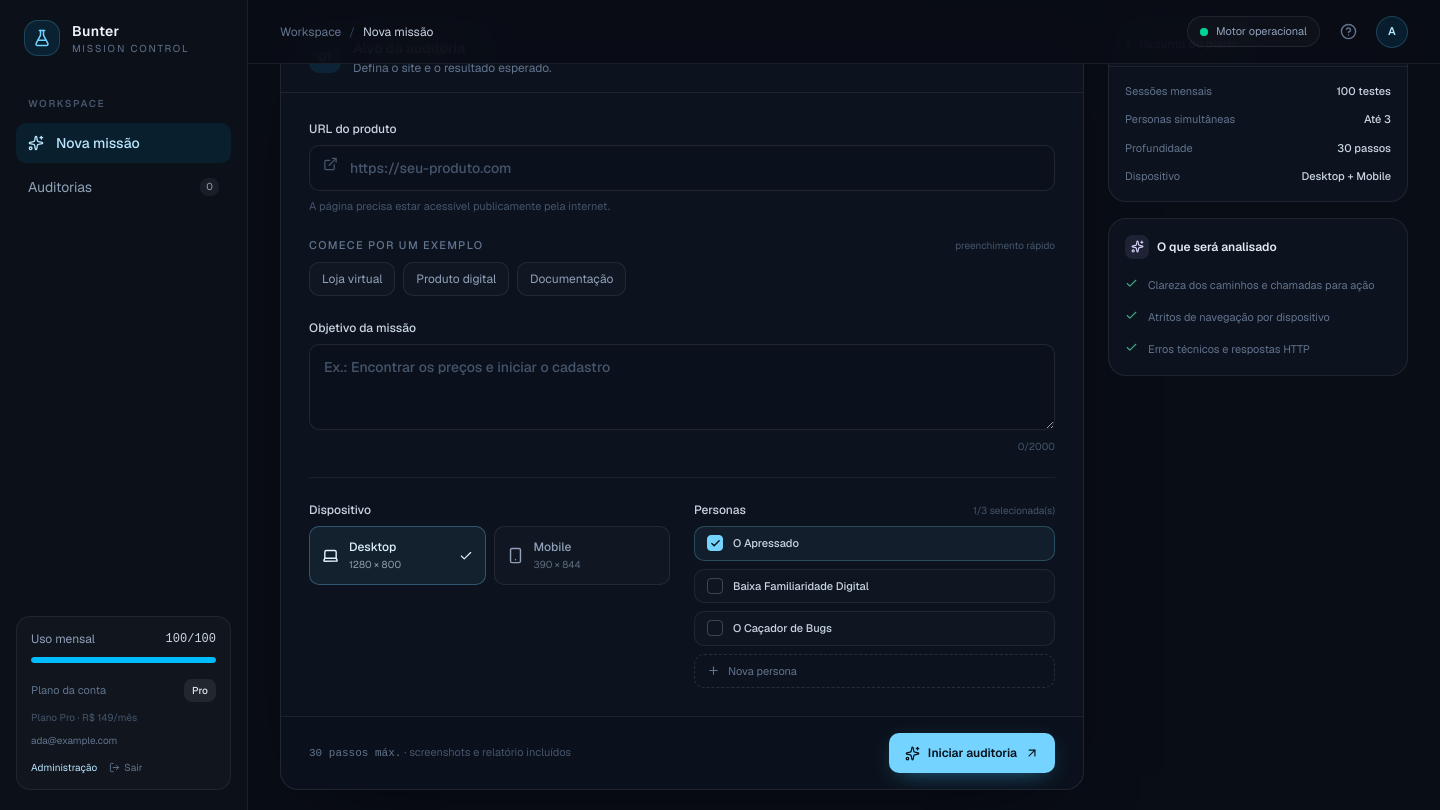
MissionControl › explains monthly quota exhaustion and can dismiss its dialog by overlay
This screenshot has width=1440, height=810.
(page scrolled)
expect the link to "/admin" reads "Administração": met, box [31,760,97,775]
Step 1. Submit the form, box [280,21,1084,790]
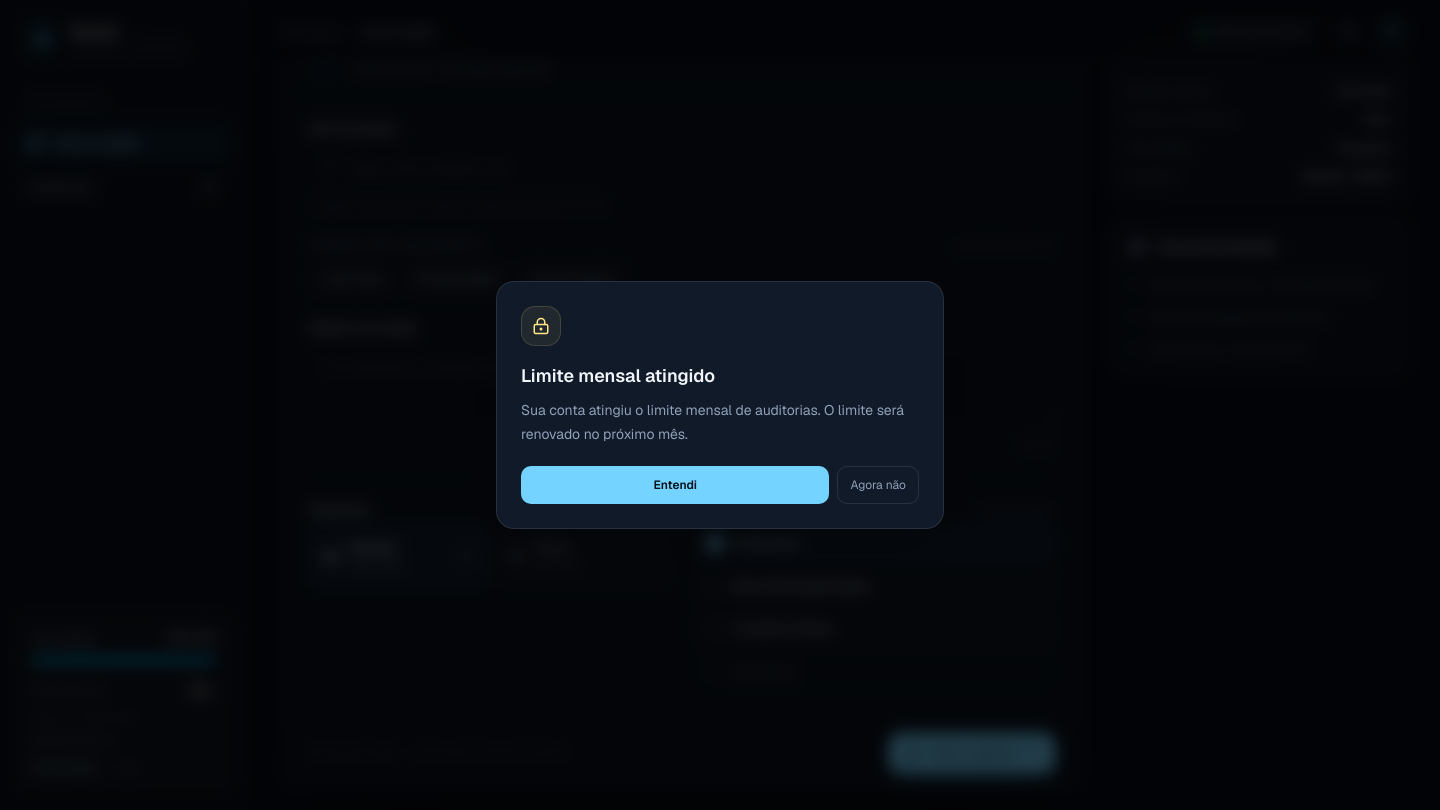
expect the dialog shows "Limite mensal atingido": met, box [521,364,715,387]
expect the dialog shows "O limite será renovado no próximo mês.": met, box [521,401,904,443]
Step 2. Press the mouse on the element that starts with "Limite mensal atingido" → (720, 405), box [0,0,1439,809]
(page scrolled)
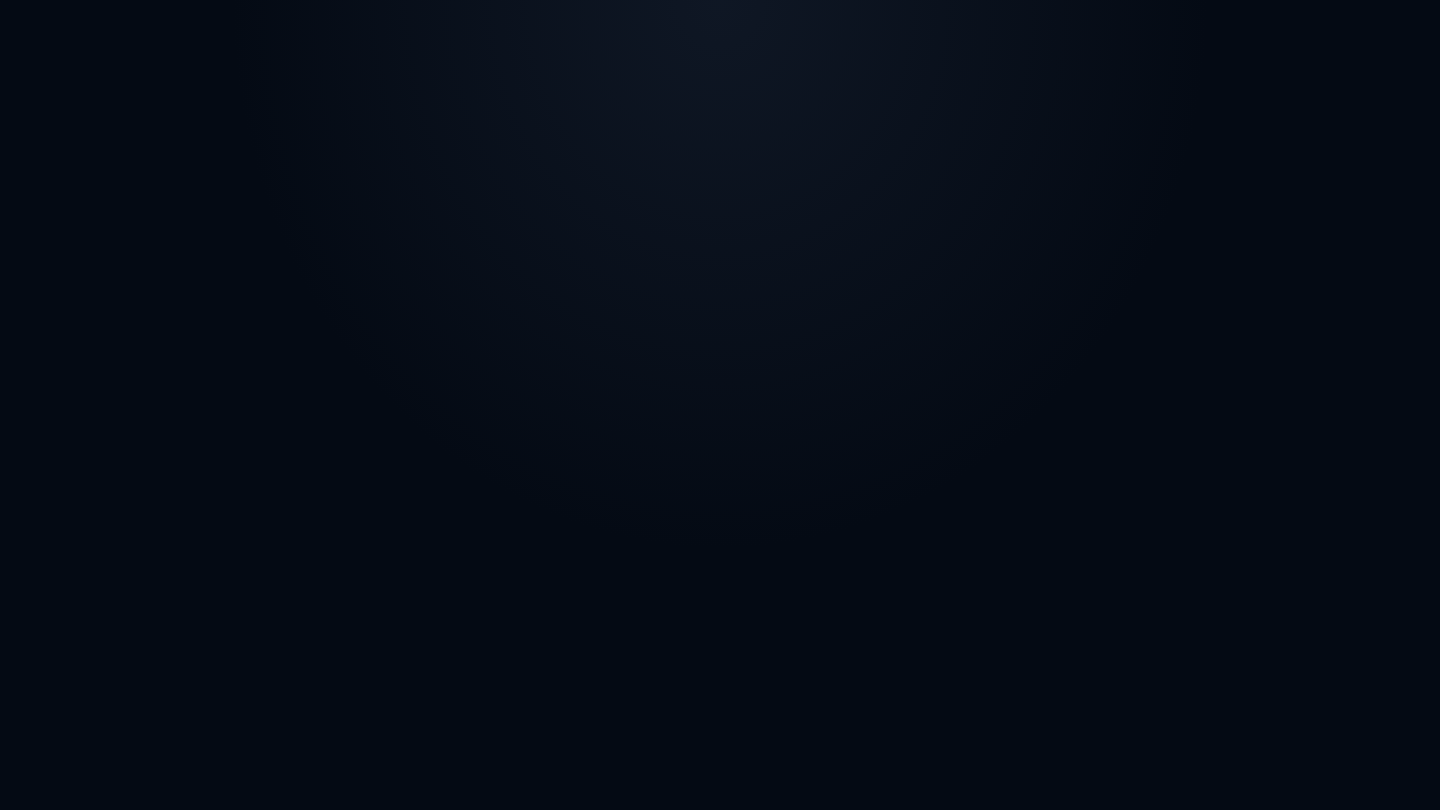
expect the dialog is gone: met
